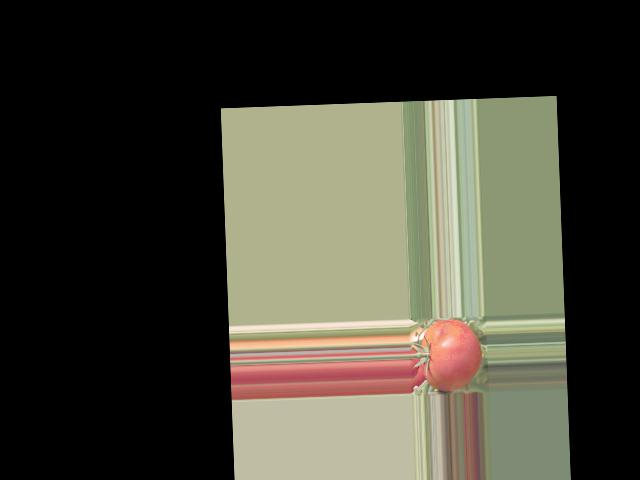tomato: (419, 318, 482, 391)
